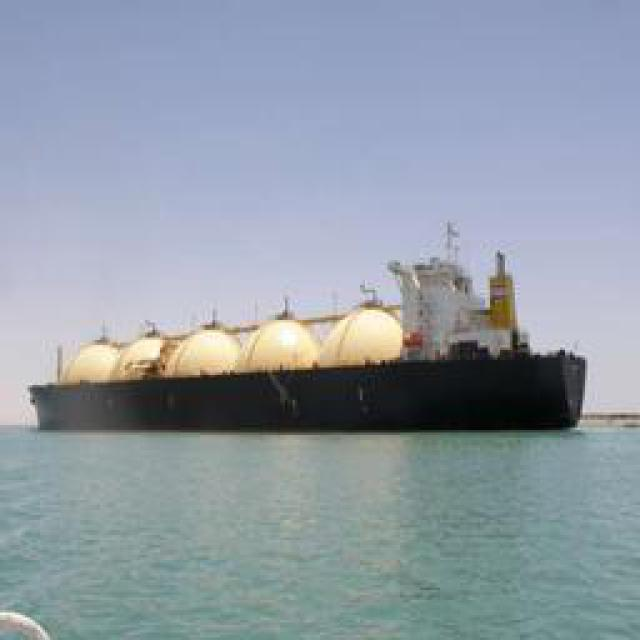Ship: (12, 356, 605, 434)
